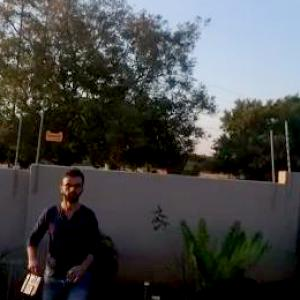follow: (12, 163, 109, 299)
